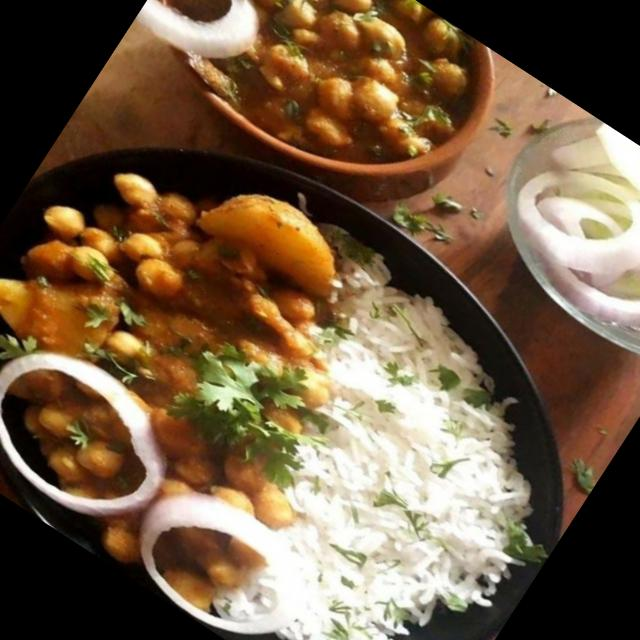Chole: (0, 83, 438, 636), (121, 0, 507, 221)
rice: (114, 220, 623, 640)
